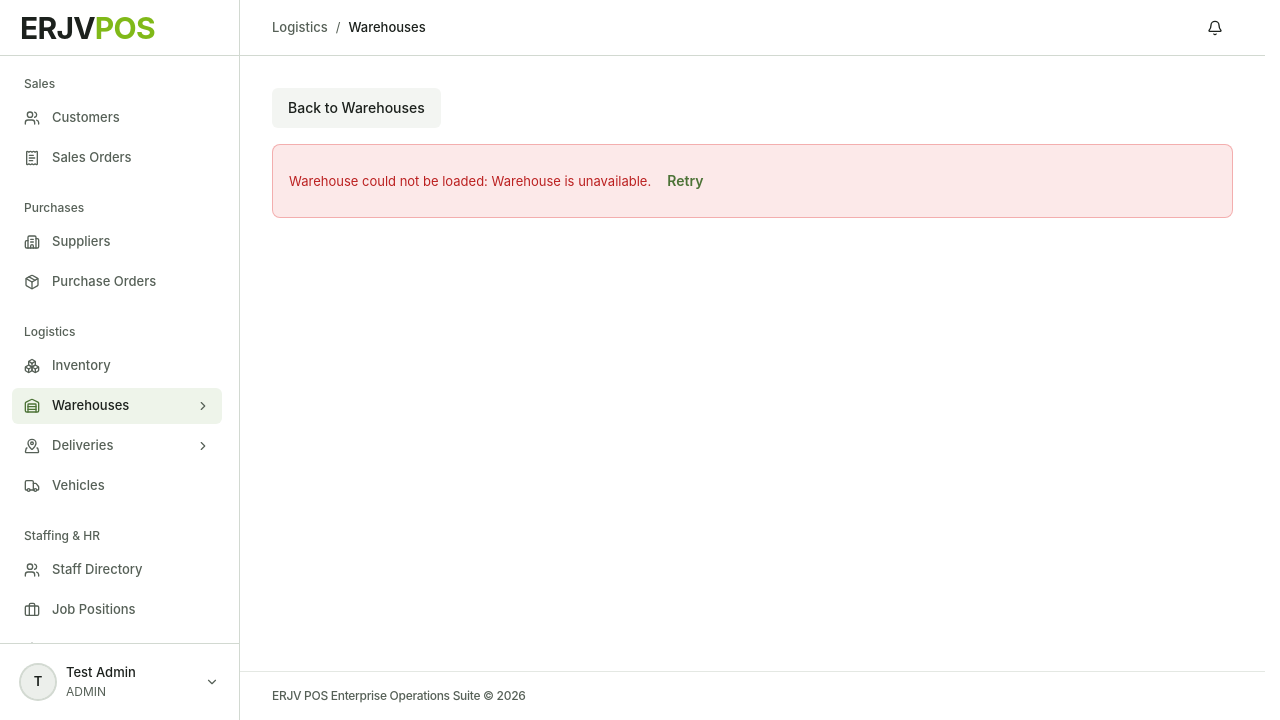
Scenario: offers retry and a way back for inaccessible or missing warehouses
Expected: the message shows "Warehouse is unavailable", [492, 173, 651, 189]
Expected: the link "Back to Warehouses" is shown, [272, 88, 441, 128]
Click the button "Retry" at (685, 181), box [651, 161, 719, 201]
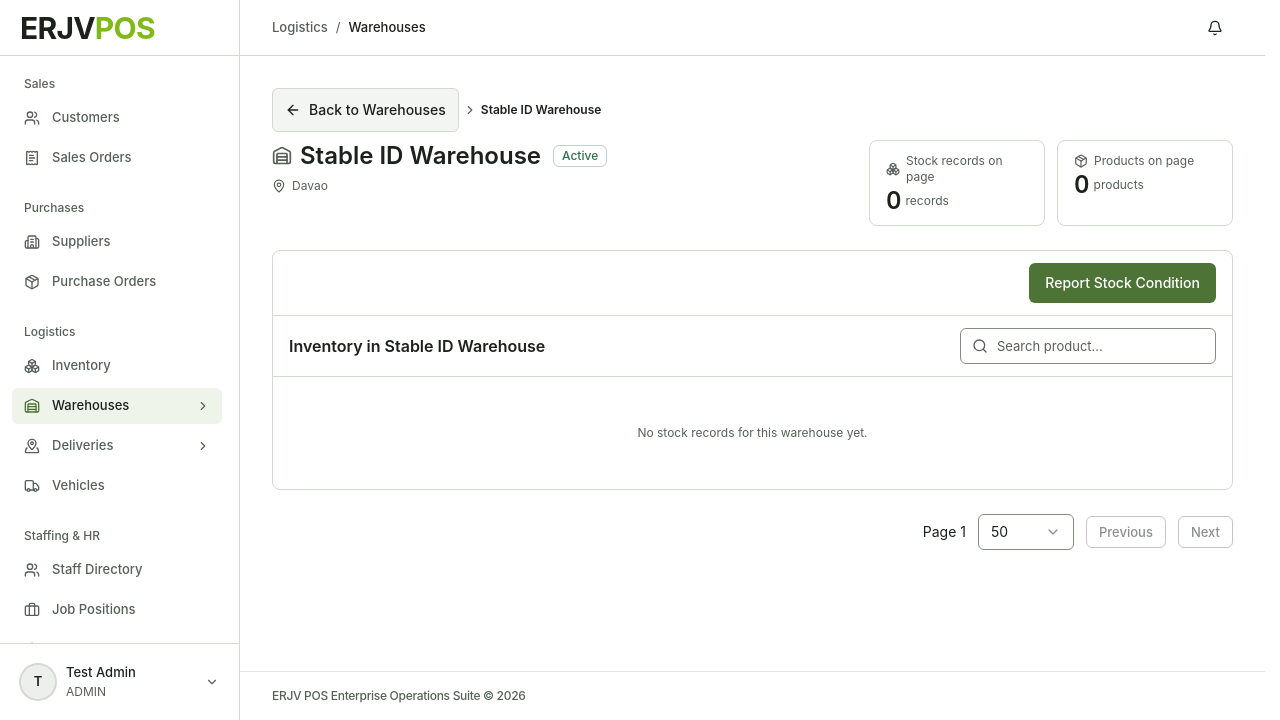
Expected: the heading "Stable ID Warehouse" is shown, [272, 140, 541, 172]
